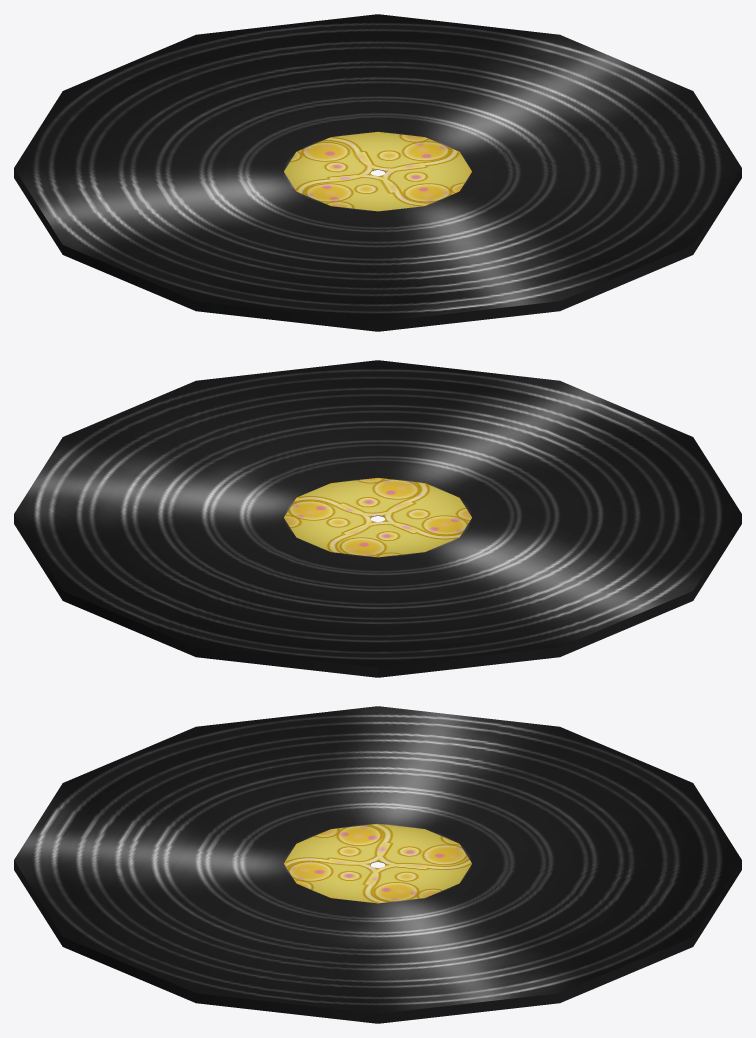
The model's file is Vinyl_05.FBX.
The picture shows the model from 3 angles, top to bottom: view 1: azimuth 30°, elevation 25°; view 2: azimuth 150°, elevation 25°; view 3: azimuth 270°, elevation 25°; orthographic projection.
Parts seen in each view (by area): view 1: Vinyl; view 2: Vinyl; view 3: Vinyl.
Boxes of the visible parts, x1,y1,x2,y2 form: Vinyl: [14, 14, 741, 331]; Vinyl: [14, 360, 741, 677]; Vinyl: [14, 706, 741, 1023].
Bounding box in the file's own units: 147 × 2.23 × 147.
